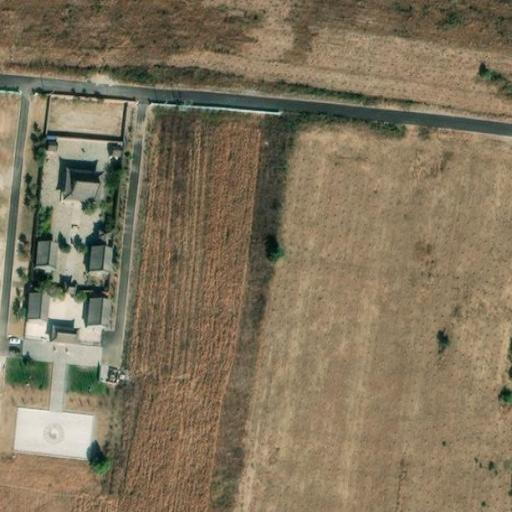building: (41, 128, 117, 160), (63, 168, 103, 204), (25, 290, 50, 321), (87, 295, 112, 326), (86, 245, 111, 273), (34, 241, 57, 269), (52, 321, 81, 342), (93, 359, 116, 383)
